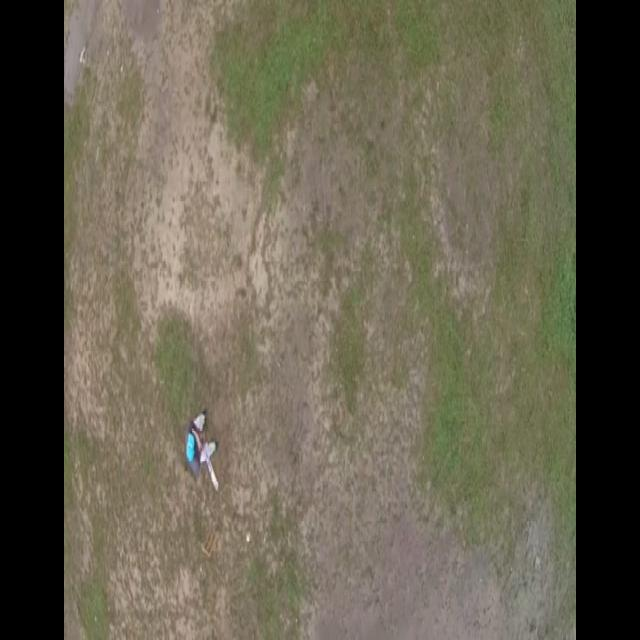humans: (182, 409, 220, 494)
